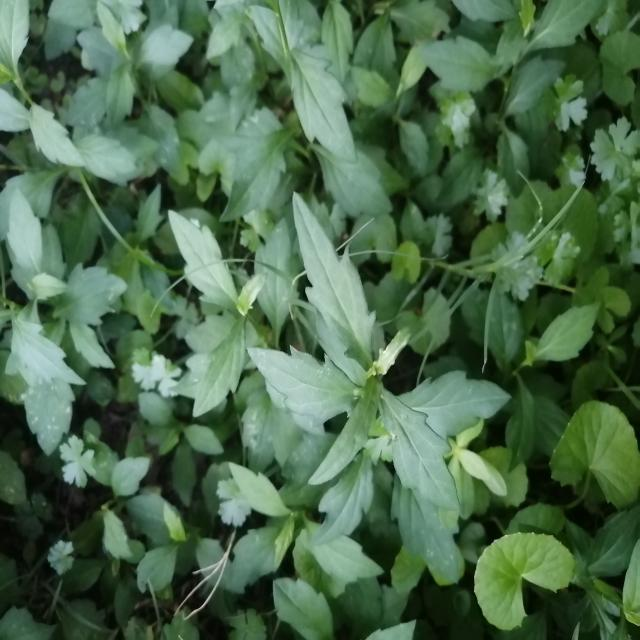Indian aster: (266, 237, 498, 540), (157, 217, 290, 431)
